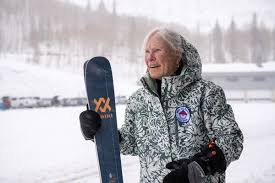skis: (82, 56, 124, 183)
